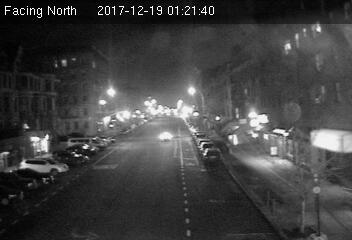car: (156, 130, 173, 142)
